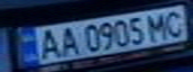0: (78, 21, 103, 52), (112, 16, 133, 47)
5: (127, 15, 148, 45)
9: (97, 19, 118, 51)
A: (30, 27, 66, 61), (54, 25, 81, 56)
C: (160, 7, 190, 38)
M: (142, 10, 175, 40)
